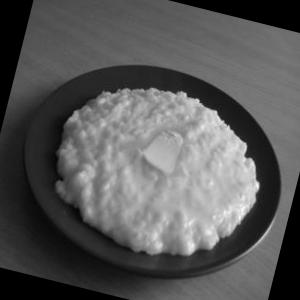porridge: (0, 30, 295, 287)
